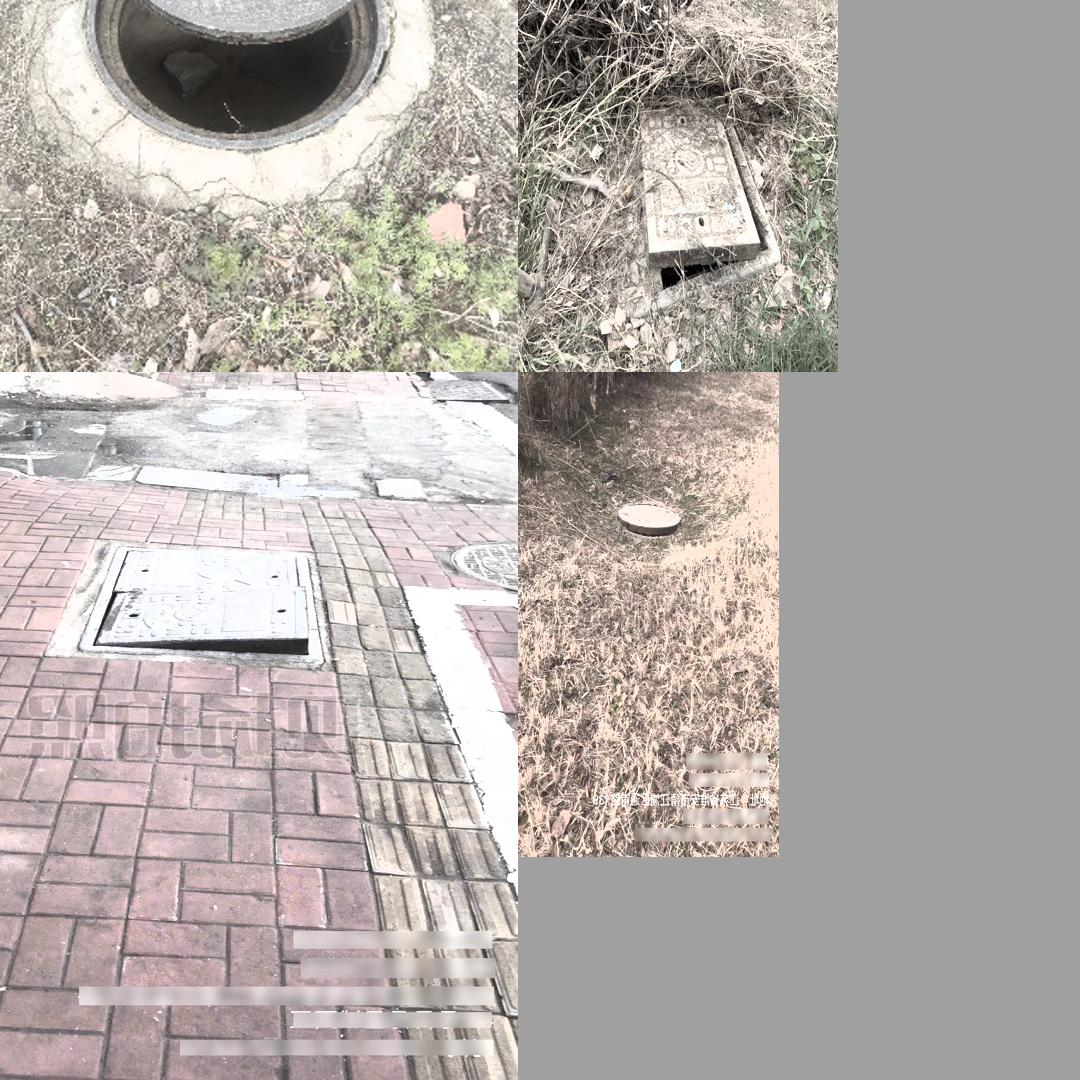uncovered: (71, 0, 393, 157), (603, 74, 773, 310), (78, 546, 325, 667), (617, 503, 680, 538)
